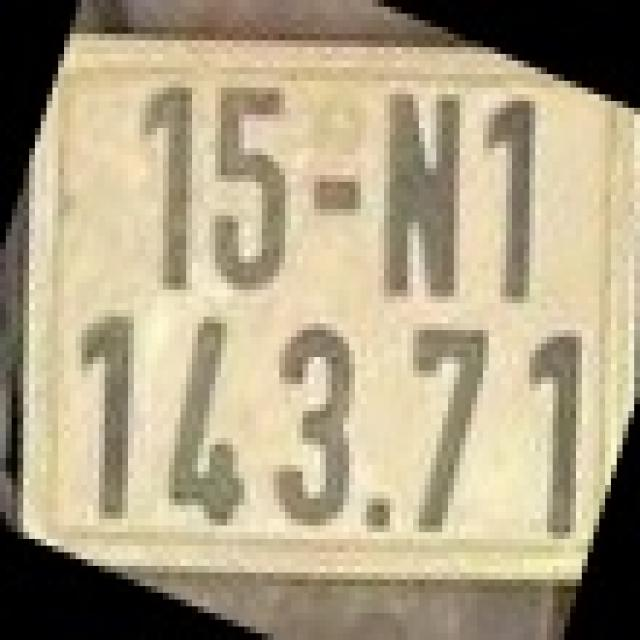1: (70, 303, 145, 526), (134, 74, 204, 290), (524, 323, 588, 539), (483, 94, 547, 303)
3: (268, 316, 355, 526)
4: (163, 310, 250, 532)
5: (209, 74, 291, 290)
7: (407, 317, 495, 532)
N: (378, 88, 466, 296)
